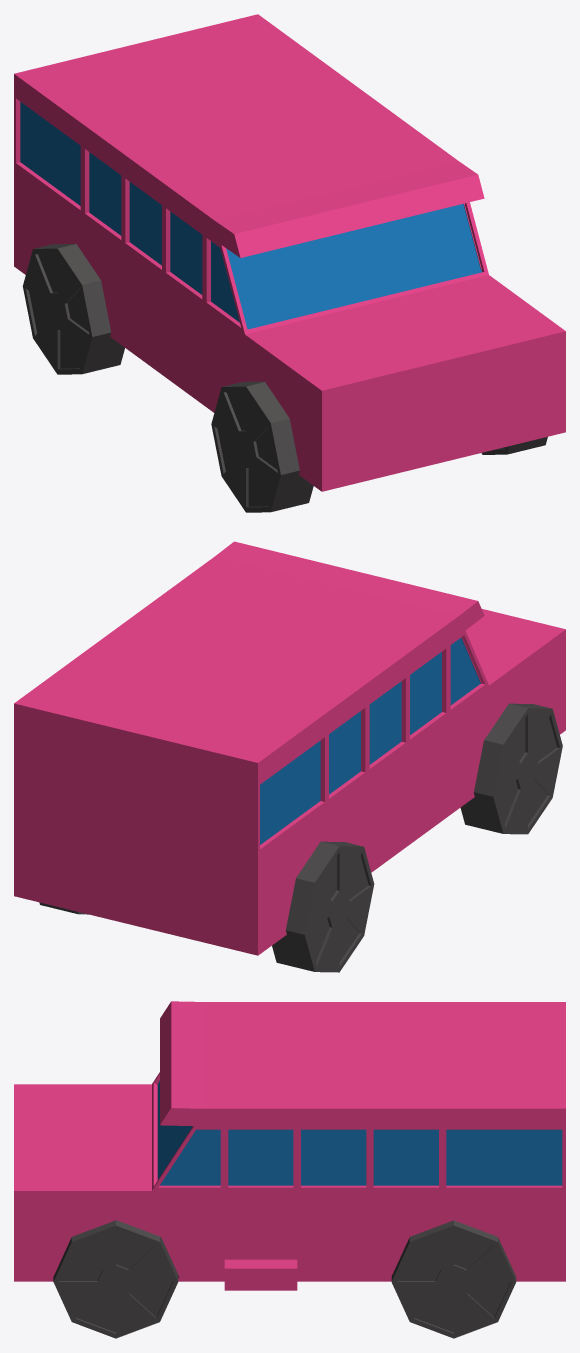
The model's file is pinkcar.fbx.
The picture shows the model from 3 angles, top to bottom: view 1: azimuth 30°, elevation 25°; view 2: azimuth 150°, elevation 25°; view 3: azimuth 270°, elevation 25°; orthographic projection. The views are drawn at different scales.
Parts seen in each view (by area): view 1: pembe; view 2: pembe; view 3: pembe.
Boxes of the visible parts, bbox=[...] form: pembe: bbox=[14, 14, 565, 512]; pembe: bbox=[14, 541, 565, 972]; pembe: bbox=[14, 1001, 565, 1338].
Bounding box in the file's own units: 410 × 347 × 771.
Materials: 1 (1 with a texture image).
